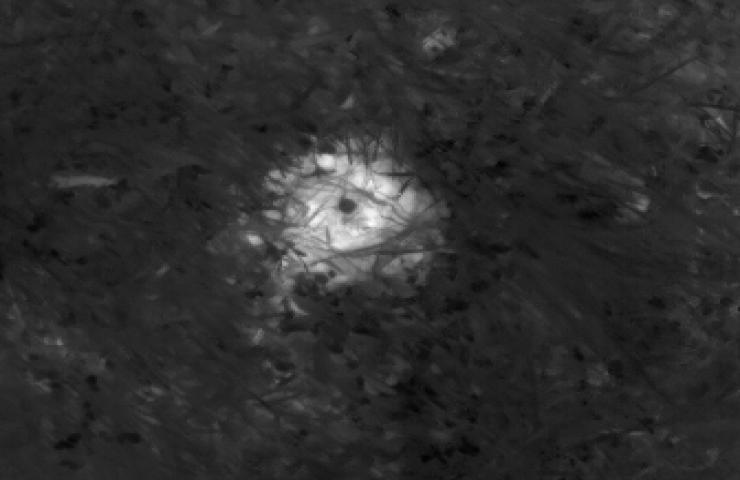landmines: (259, 138, 445, 295)
